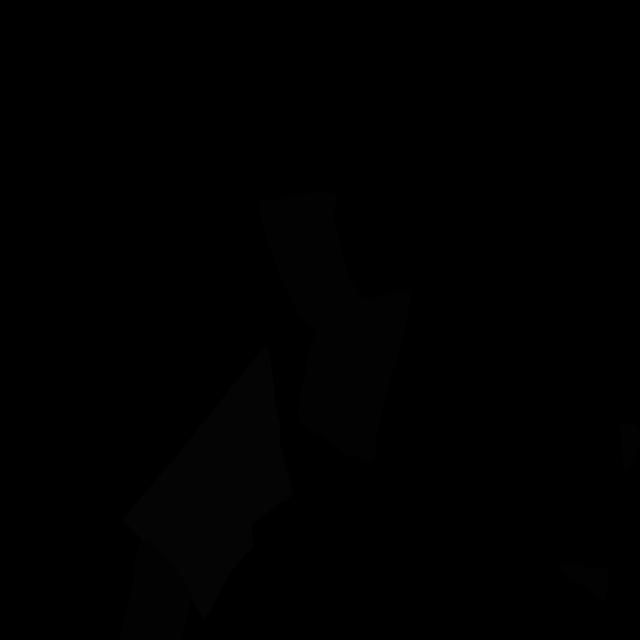cardboard: (260, 192, 411, 461), (120, 540, 192, 640), (560, 564, 609, 601), (620, 422, 640, 475)
soft_plastic: (122, 349, 293, 619)
